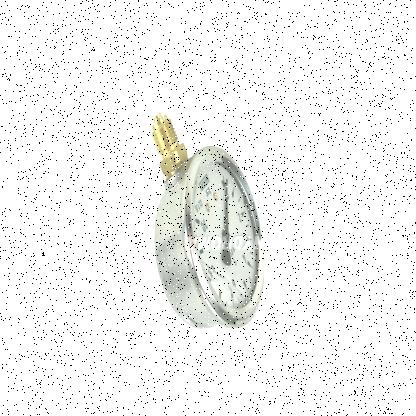needle: (225, 178, 228, 231)
